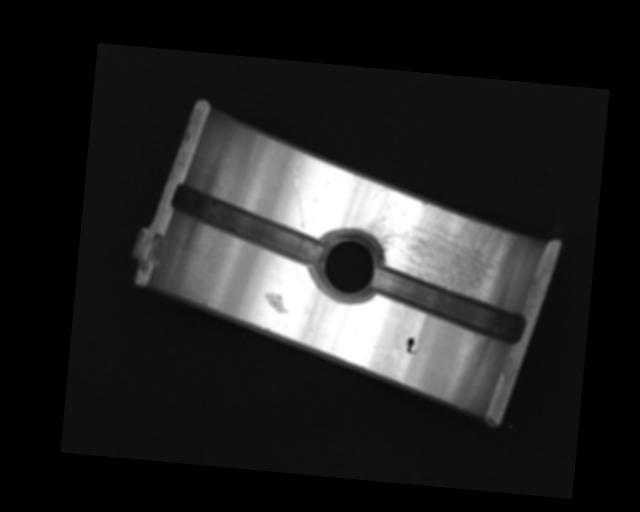blot: (404, 336, 419, 355)
bruise: (262, 290, 289, 314)
gap: (167, 184, 327, 267), (368, 264, 529, 345)
hole: (314, 228, 385, 306)
nick: (289, 171, 309, 227)
scratch: (354, 185, 519, 309)
